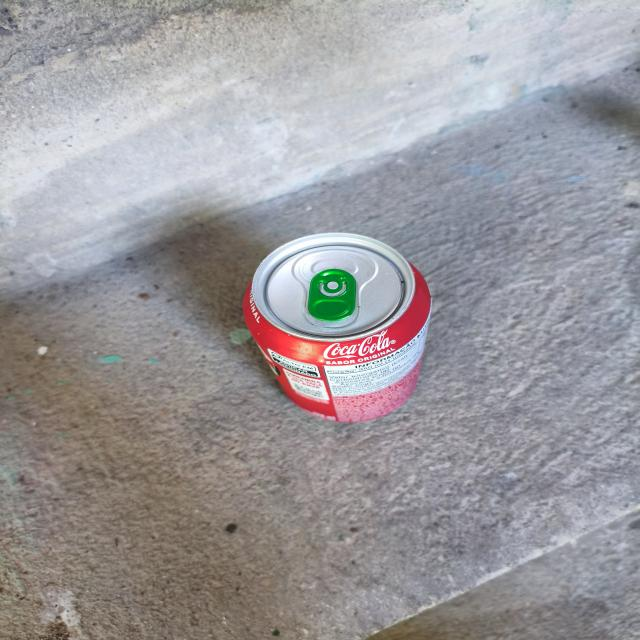Coca Cola: (242, 232, 429, 420)
